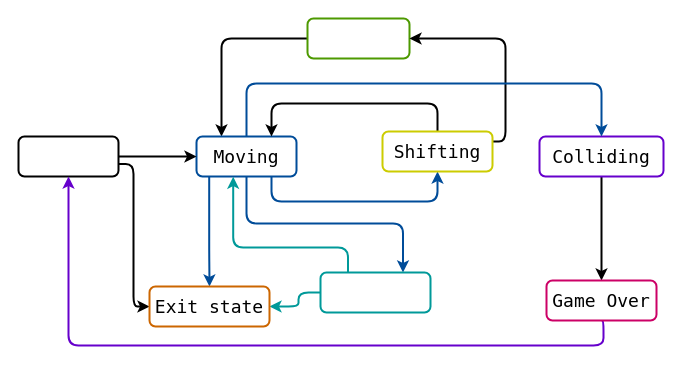
Image size: 681x371. Some labels were removed from this diagram. Here are the shapes that lost their labels. From the top down, the centre of each, then its label:
At pixel 358 38: "Spawn".
At pixel 68 156: "Start".
At pixel 375 292: "Pause".
